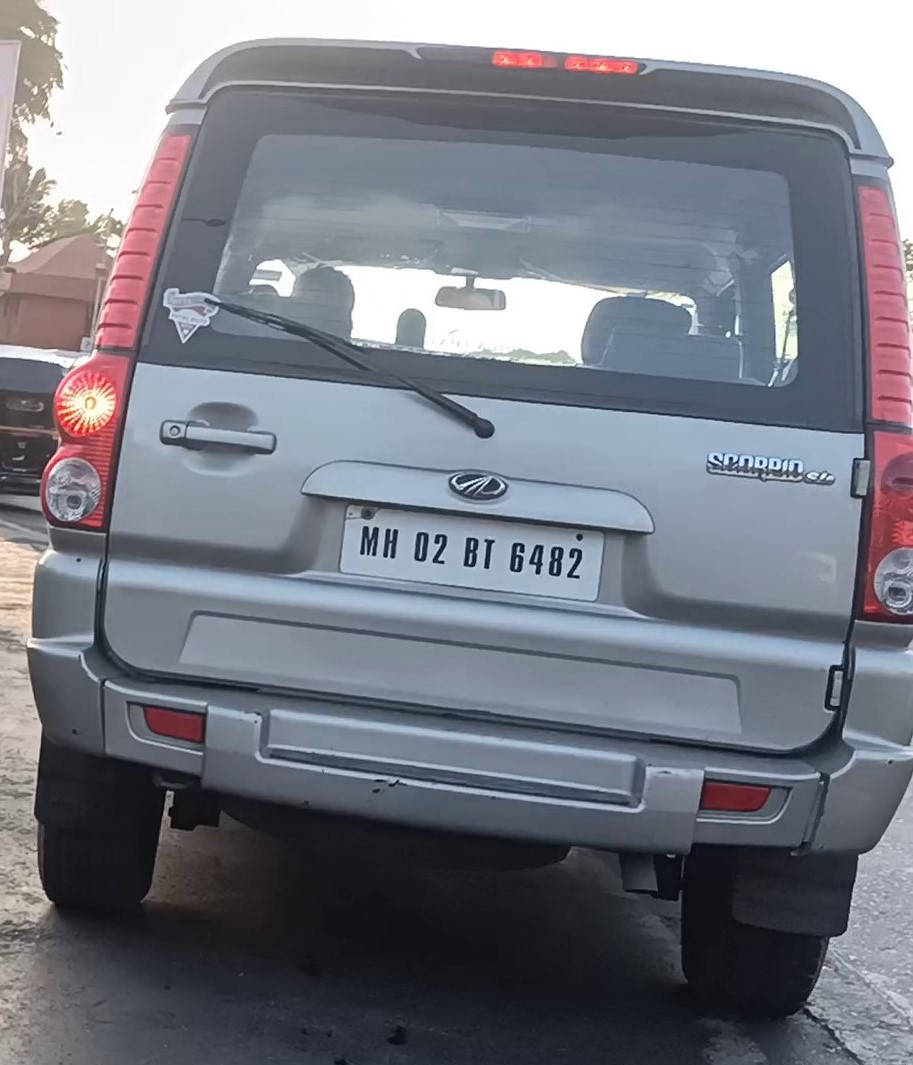MH02BT6482: (337, 503, 605, 605)
